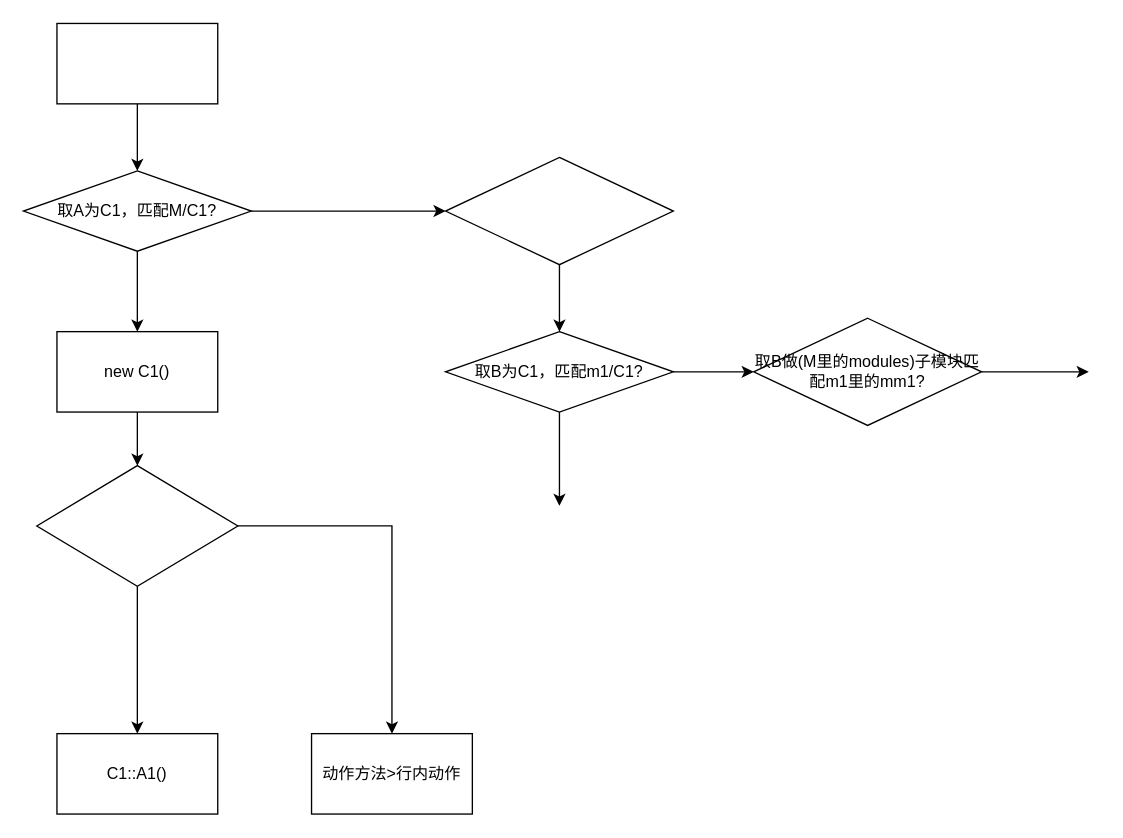
This 1123x838 diagram has some shape labels left out. Here are the shapes that lost their labels. From the top down, the centre of each, then its label:
At (x=137, y=63): "模块=M当前".
At (x=558, y=210): "取A做(M里的modules)子模块匹配M里的m1?".
At (x=137, y=525): "取B为A1,匹配M/C1/A1?".
